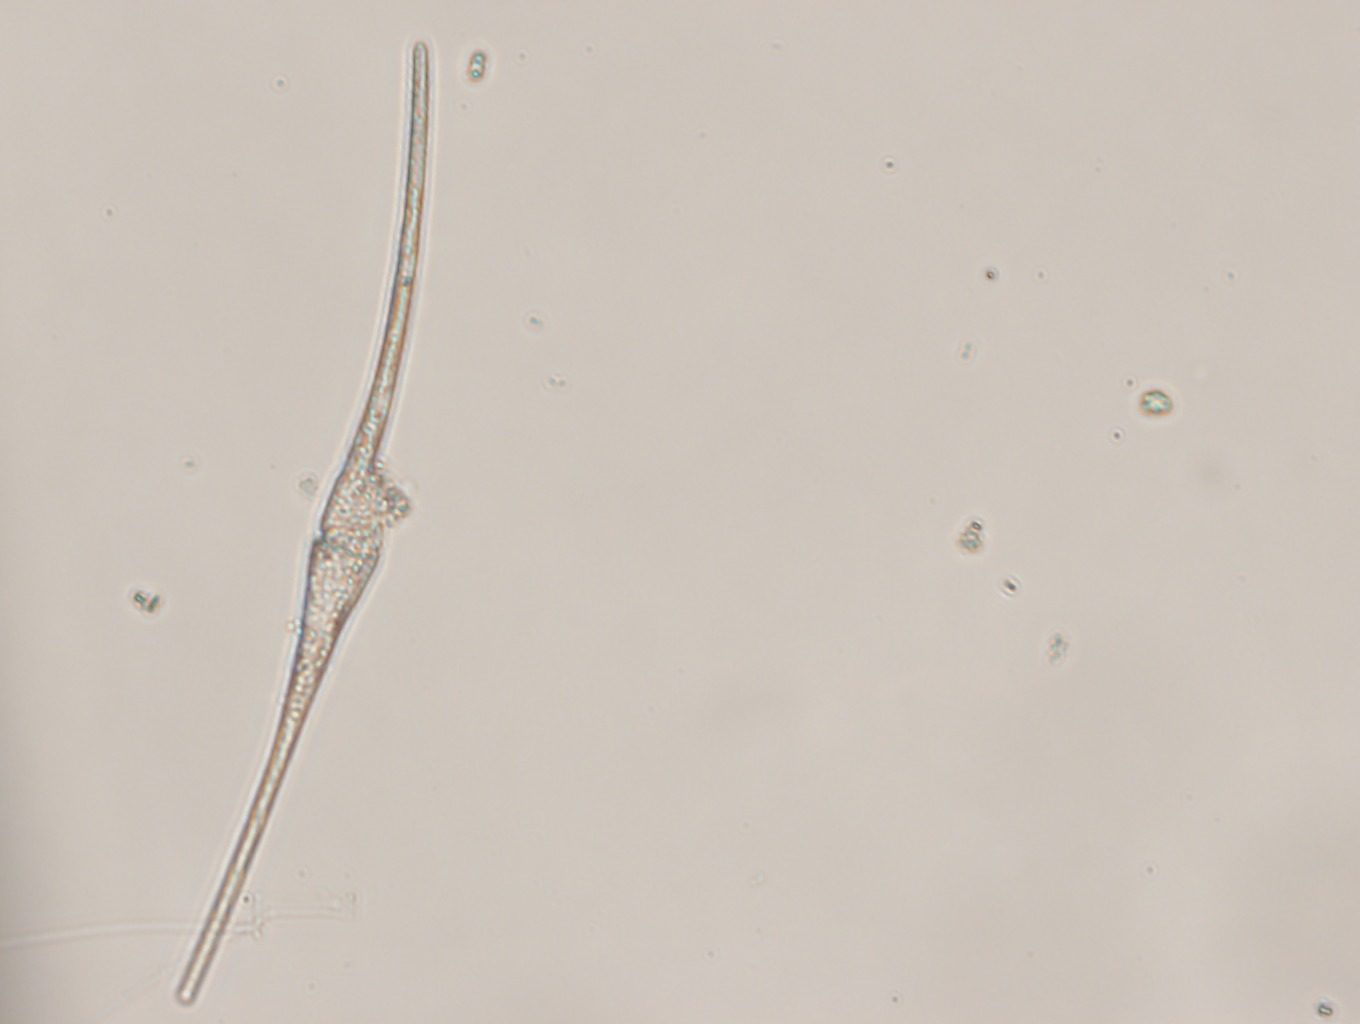ceratium fusus: (148, 28, 462, 1011)
